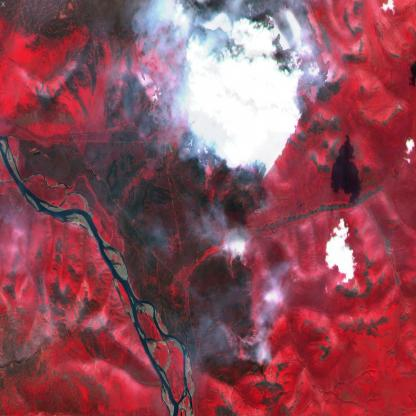fire: (189, 96, 276, 384)
